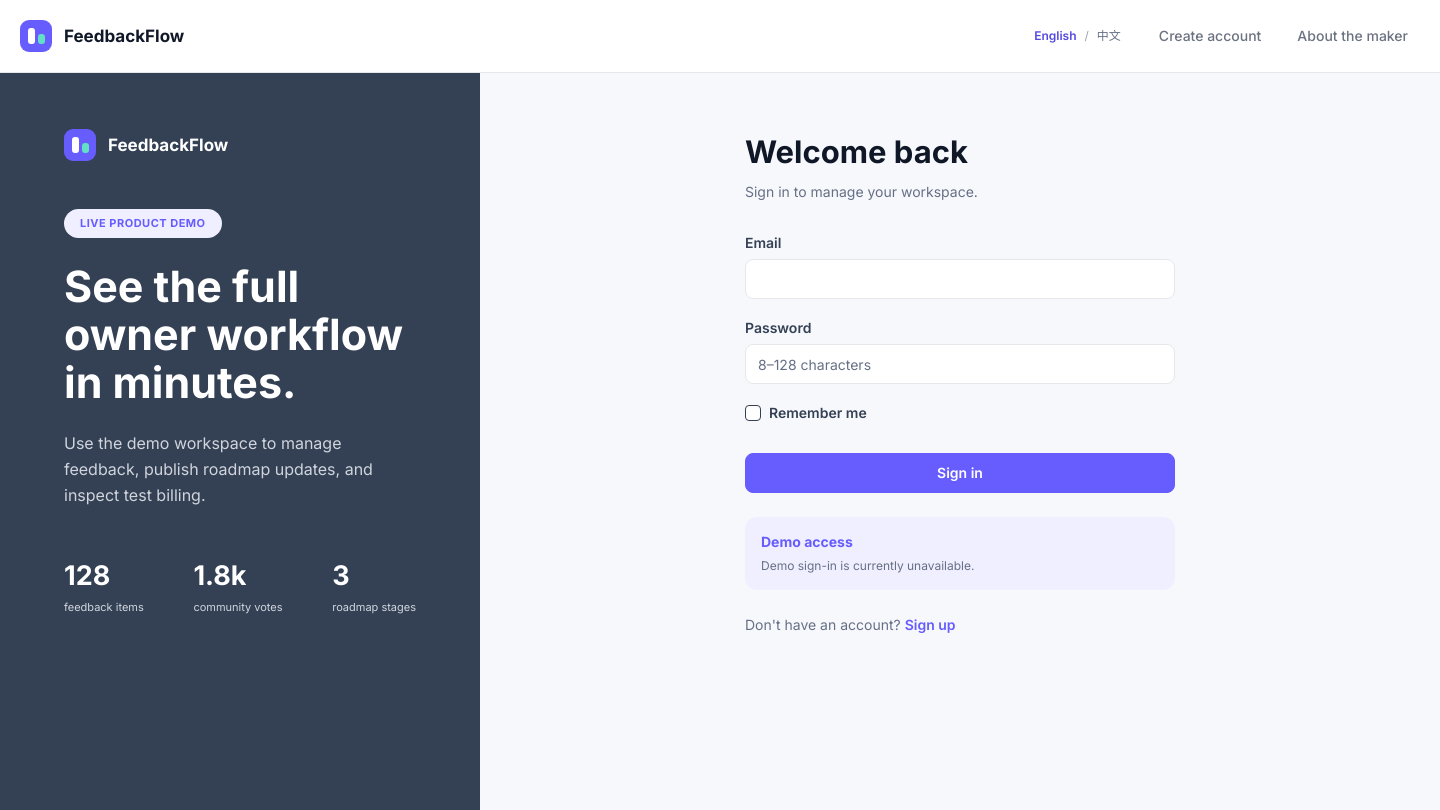
LoginPage › does not expose unexpected server errors
Type "paul@example.com" into the field labelled "Email" at point(960, 279), box [745, 259, 1175, 299]
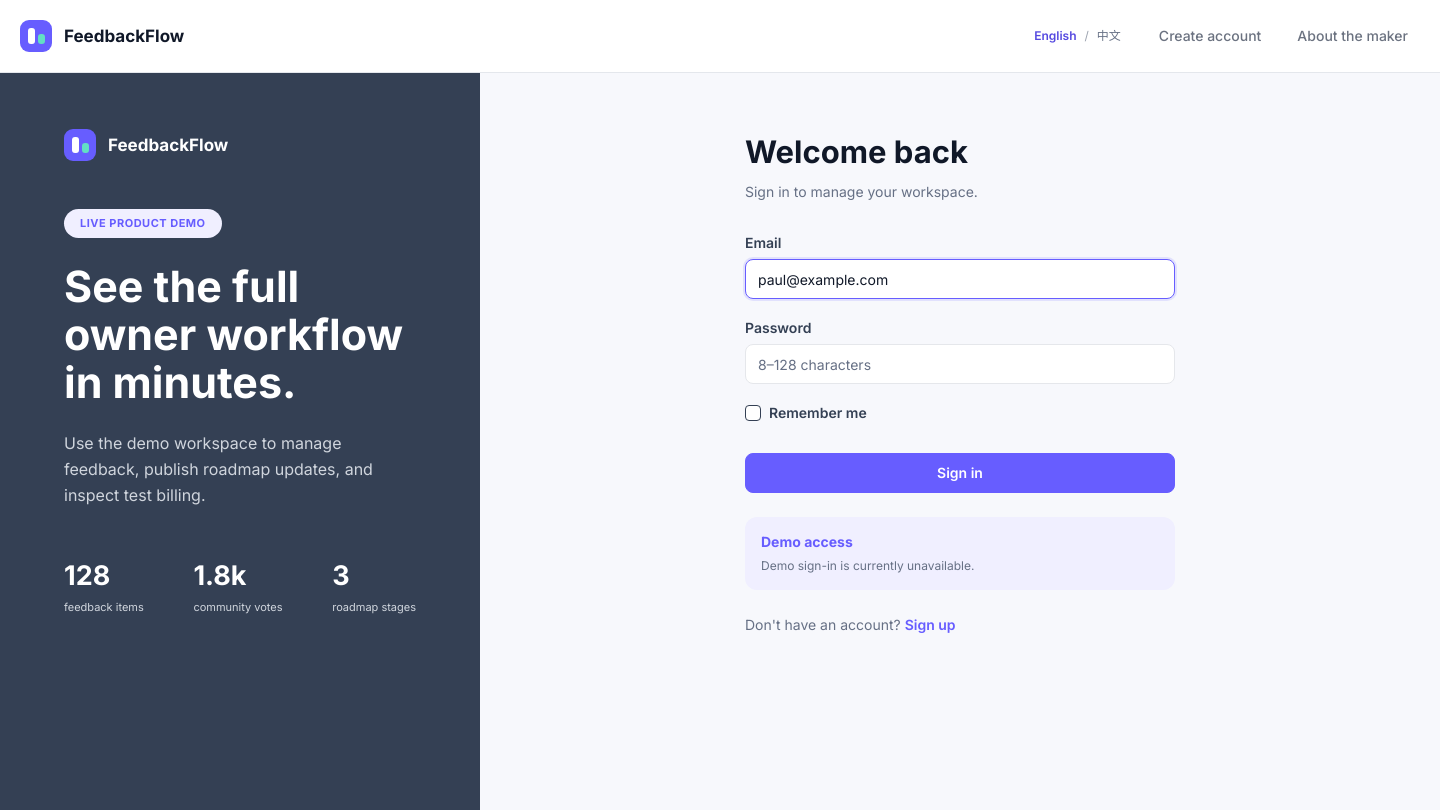
Type "Feedback123!" into the password field labelled "Password" at point(960, 364), box [745, 344, 1175, 384]
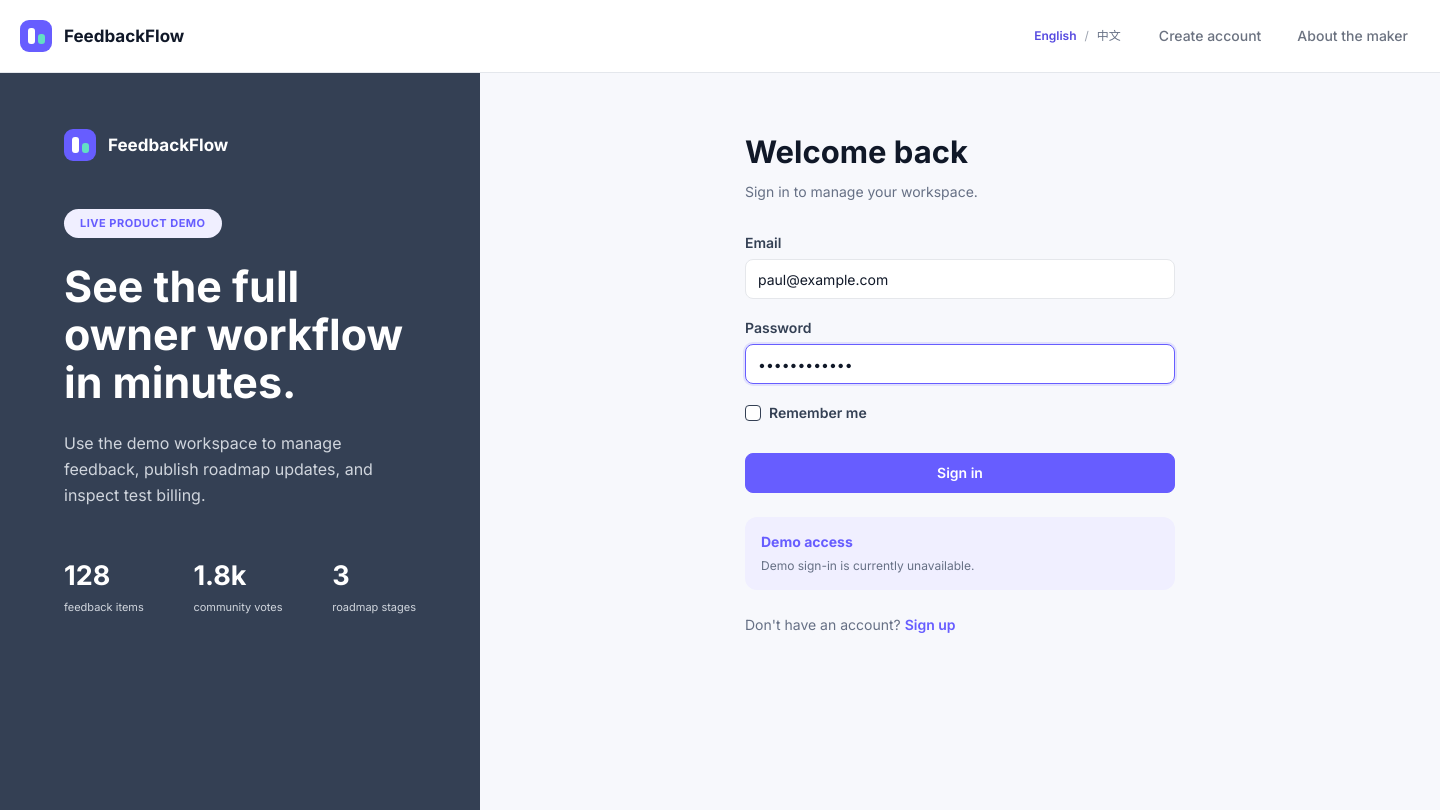
Click the button "Sign in" at point(960, 473), box [745, 453, 1175, 493]
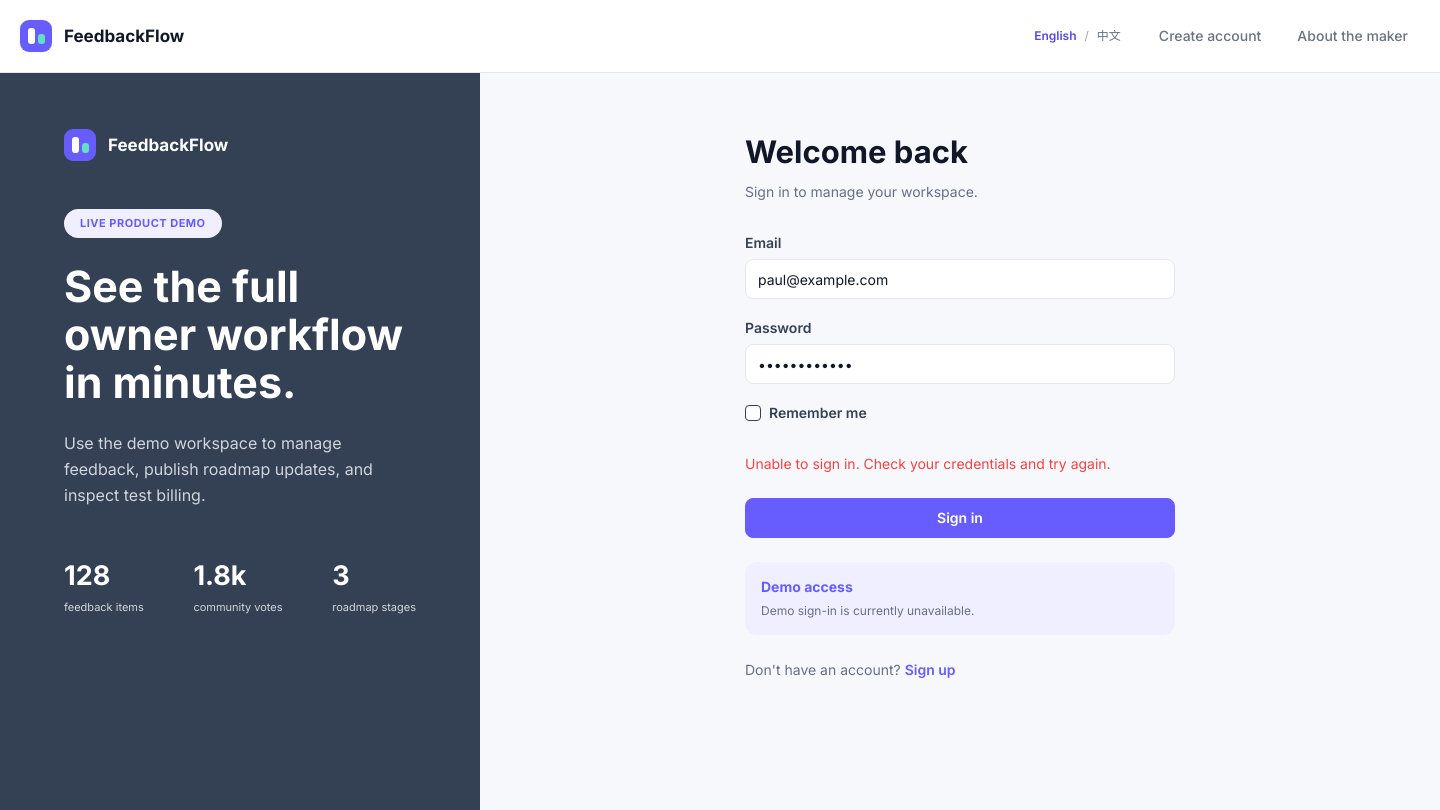
expect the message reads "Unable to sign in. Check your credentials and try again.": met, box [745, 455, 1111, 472]
